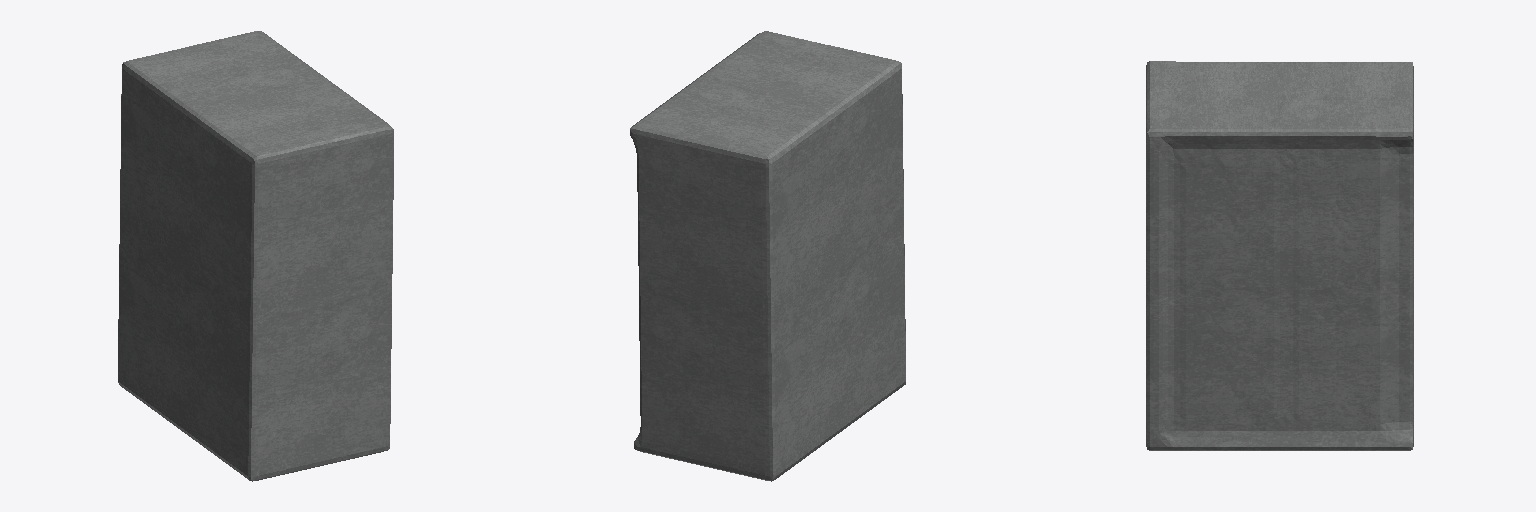
The picture shows the model from 3 angles: view 1: azimuth 30°, elevation 25°; view 2: azimuth 150°, elevation 25°; view 3: azimuth 270°, elevation 25°; orthographic projection.
Bounding box in the file's own units: 0.4529 × 0.9671 × 0.7189.
1 materials, 1 textured.